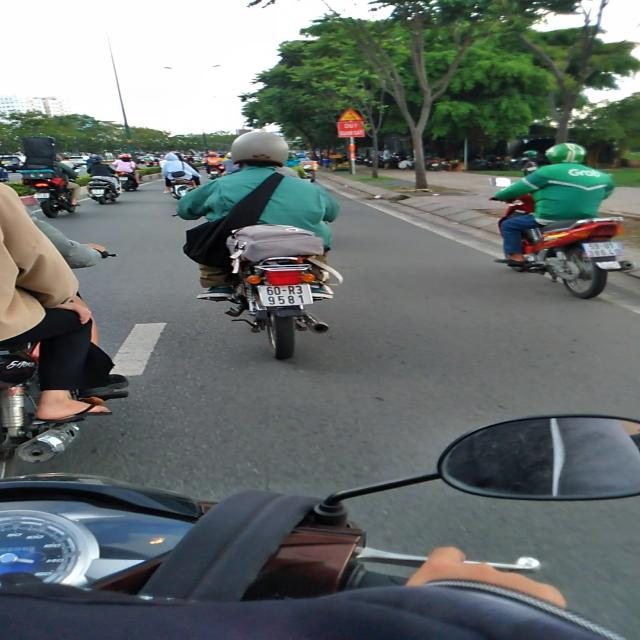Nguy hiem: (337, 106, 364, 122)
